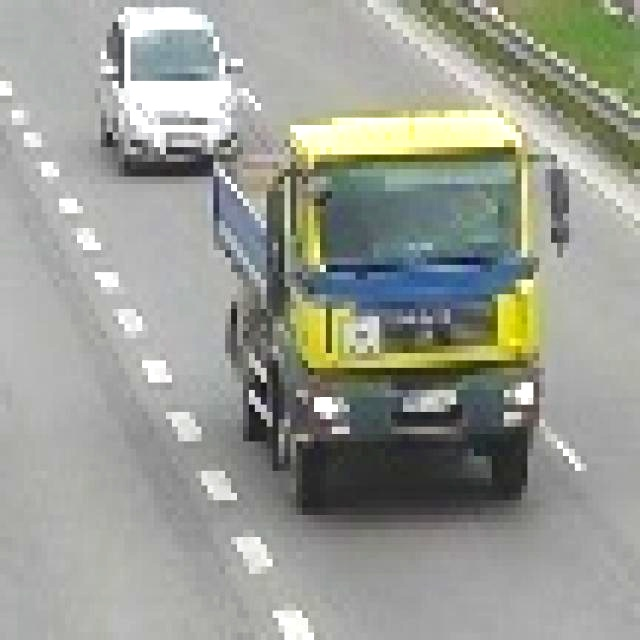car: (72, 5, 245, 191)
truck: (186, 103, 590, 519)
